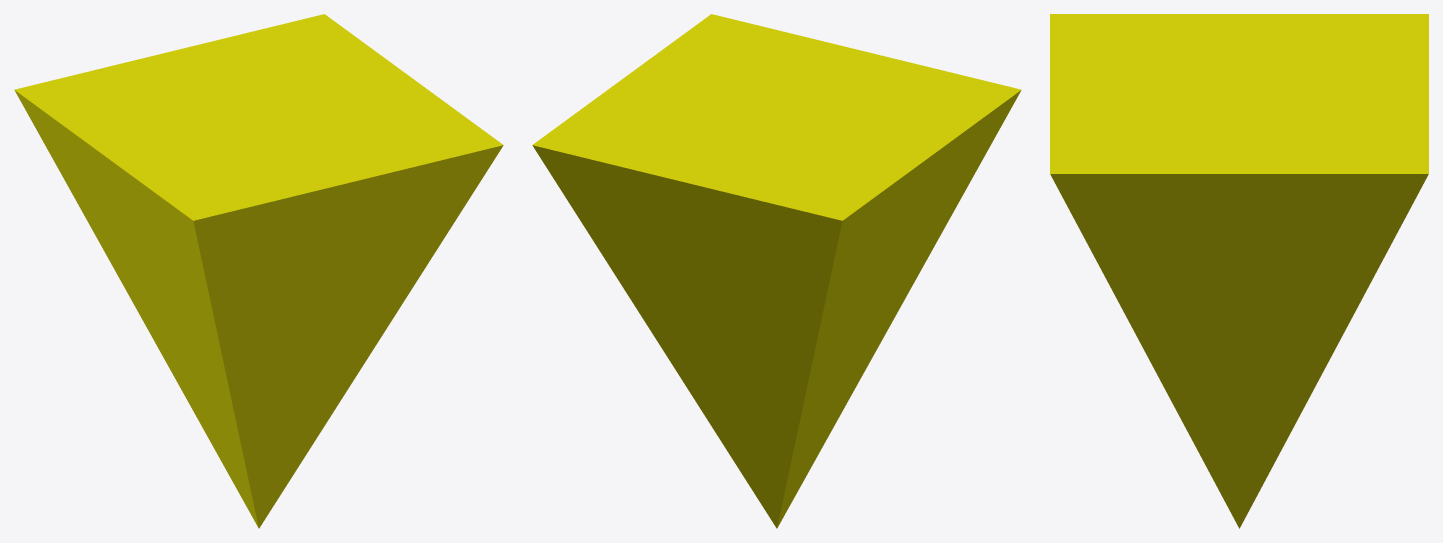
File: Cursor.fbx
3 renders of one model, left to right at view 1: azimuth 30°, elevation 25°; view 2: azimuth 150°, elevation 25°; view 3: azimuth 270°, elevation 25°, orthographic. The views are drawn at different scales.
Parts seen in each view (by area): view 1: Cube; view 2: Cube; view 3: Cube.
Part boxes in pixels (x1,y1,x2,y2): Cube: [14, 14, 503, 528]; Cube: [532, 14, 1021, 528]; Cube: [1050, 14, 1428, 528].
Size of the model in its own units: 200 by 253 by 200.
